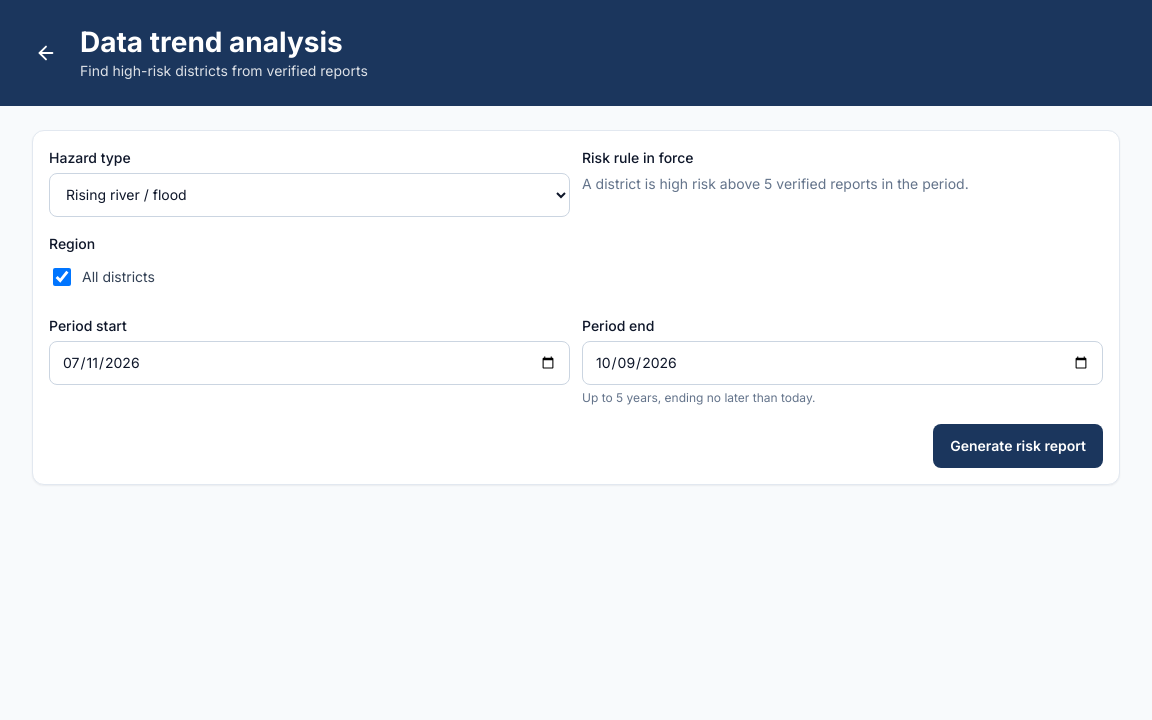
Test: Trend analysis (steps 2–5) › 3a: should warn that the report is limited when data is insufficient
Click the button "Generate risk report": point(1018, 446) [933,424,1103,468]
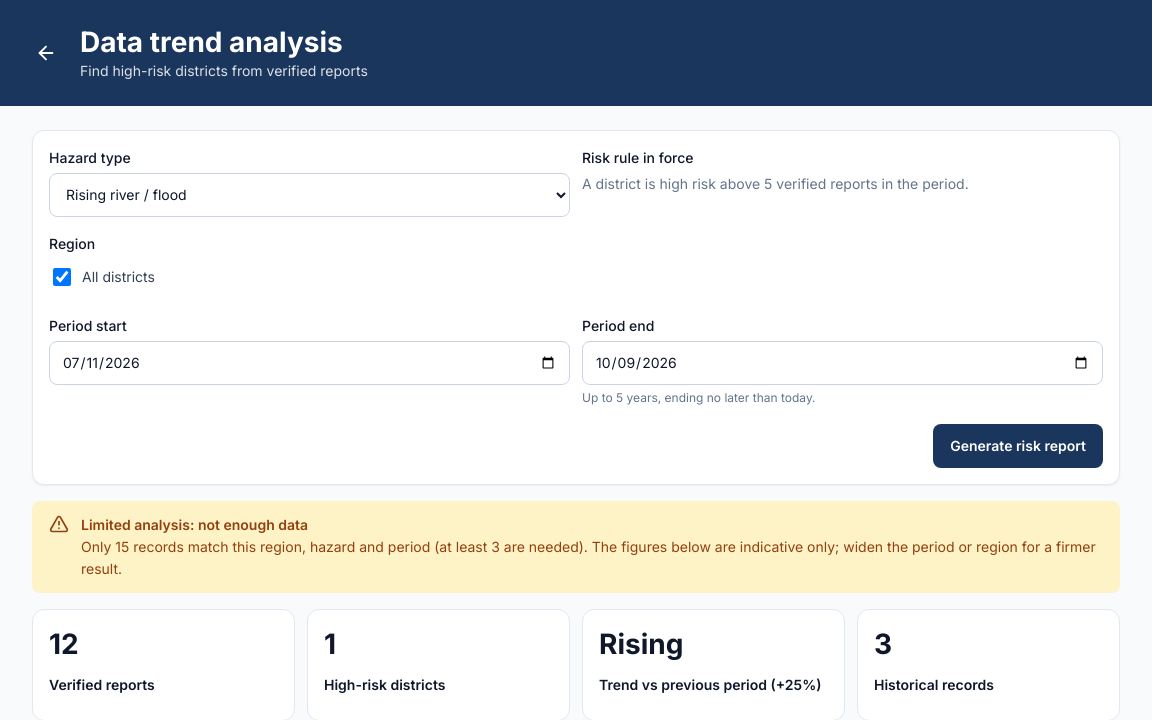
Now the text "Limited analysis: not enough data" is shown, box [81,516,308,533]
